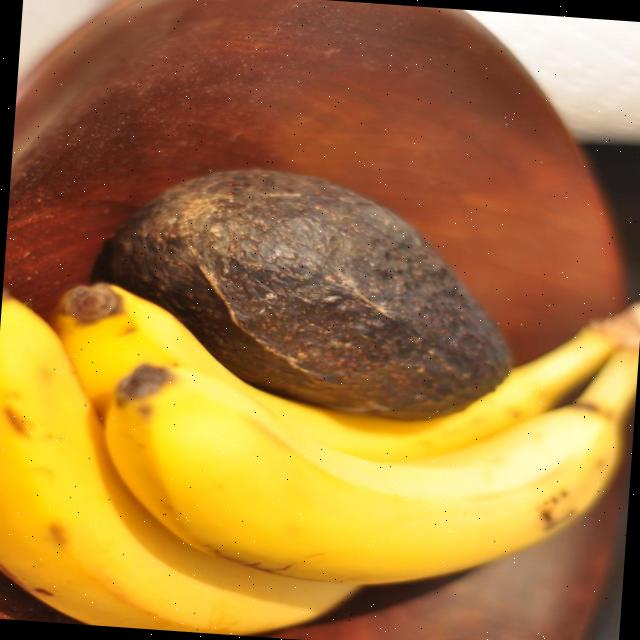banana: (102, 346, 639, 583)
